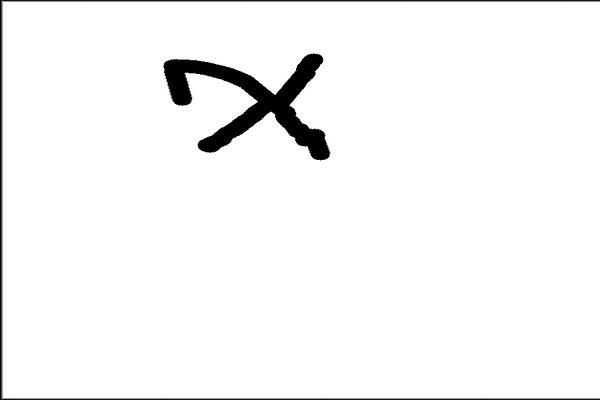X: (155, 33, 345, 170)
